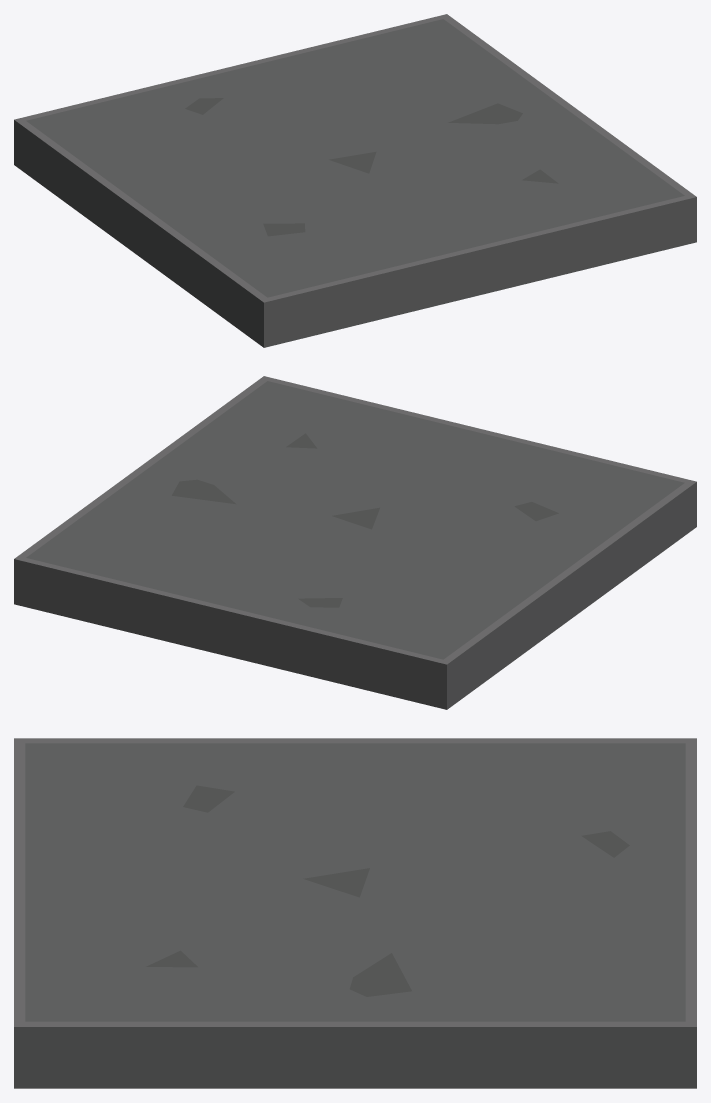
The model's file is ConcrateSlabs_B_2_2.glb.
3 renders of one model, top to bottom at view 1: azimuth 30°, elevation 25°; view 2: azimuth 150°, elevation 25°; view 3: azimuth 270°, elevation 25°, orthographic. The views are drawn at different scales.
Visible parts, largest first — view 1: ConcrateSlabs_B_2_2; view 2: ConcrateSlabs_B_2_2; view 3: ConcrateSlabs_B_2_2.
Part boxes in pixels (<box>): ConcrateSlabs_B_2_2: <box>14,14,696,347</box>; ConcrateSlabs_B_2_2: <box>14,376,696,709</box>; ConcrateSlabs_B_2_2: <box>14,738,696,1088</box>.
Size of the model in its own units: 4 by 0.4 by 4.
1 material, 1 textured.
